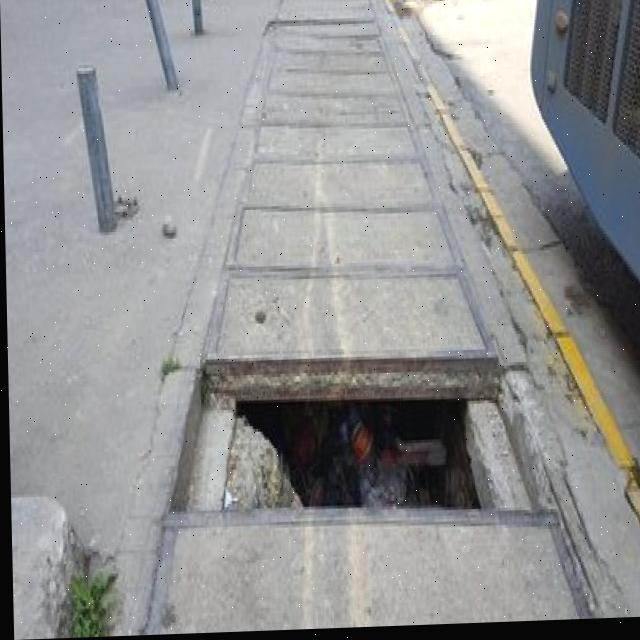manhole: (160, 331, 558, 542)
